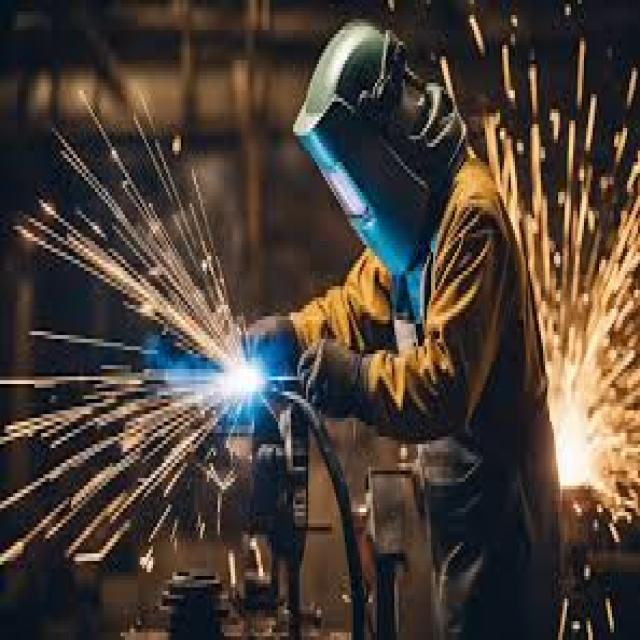welding: (232, 359, 264, 392)
